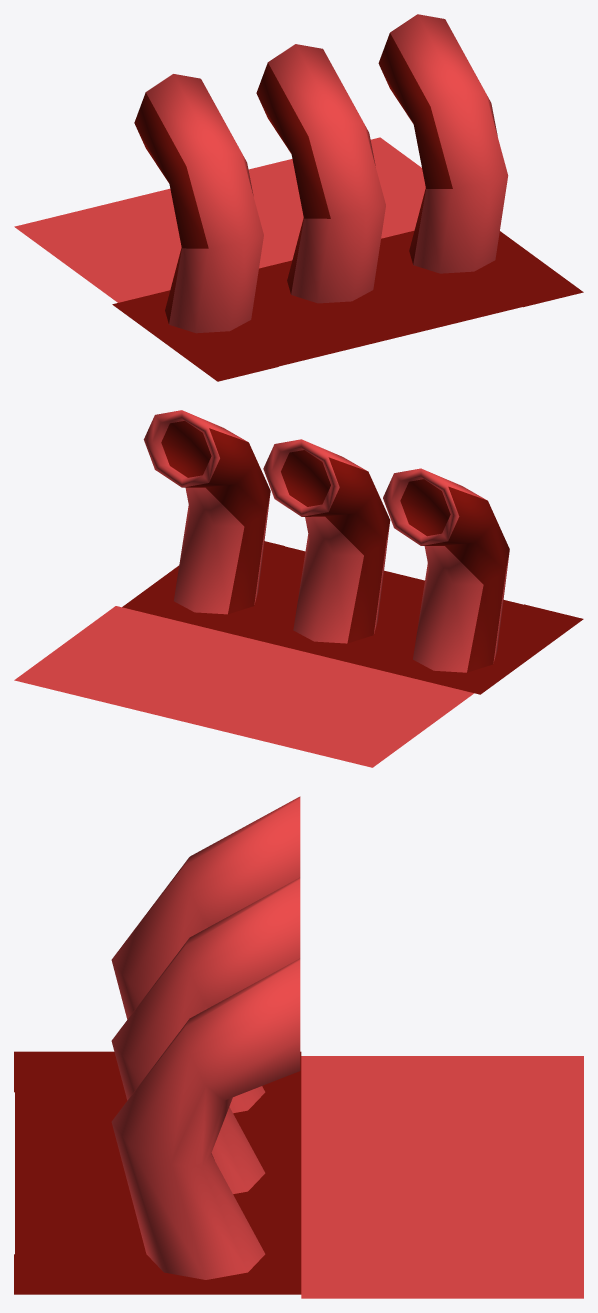
File: Fire_Side_T2_InActive.fbx
3 views of the same model, one above another, from view 1: azimuth 30°, elevation 25°; view 2: azimuth 150°, elevation 25°; view 3: azimuth 270°, elevation 25° (orthographic). The views are drawn at different scales.
Visible parts, largest first — view 1: Fire_Side_T2_InActive; view 2: Fire_Side_T2_InActive; view 3: Fire_Side_T2_InActive.
Boxes of the visible parts, box(x1,y1,x2,y2) form: Fire_Side_T2_InActive: box(14, 14, 583, 381); Fire_Side_T2_InActive: box(14, 410, 583, 767); Fire_Side_T2_InActive: box(14, 796, 583, 1298).
Size of the model in its own units: 1.97 by 1.92 by 1.09.
